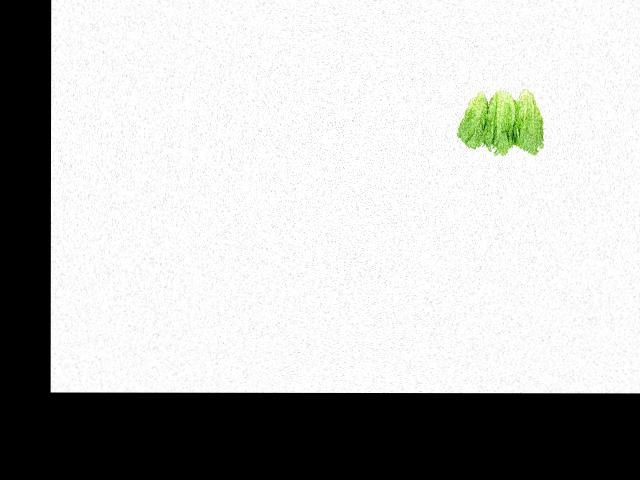lettuce: (456, 76, 492, 151)
